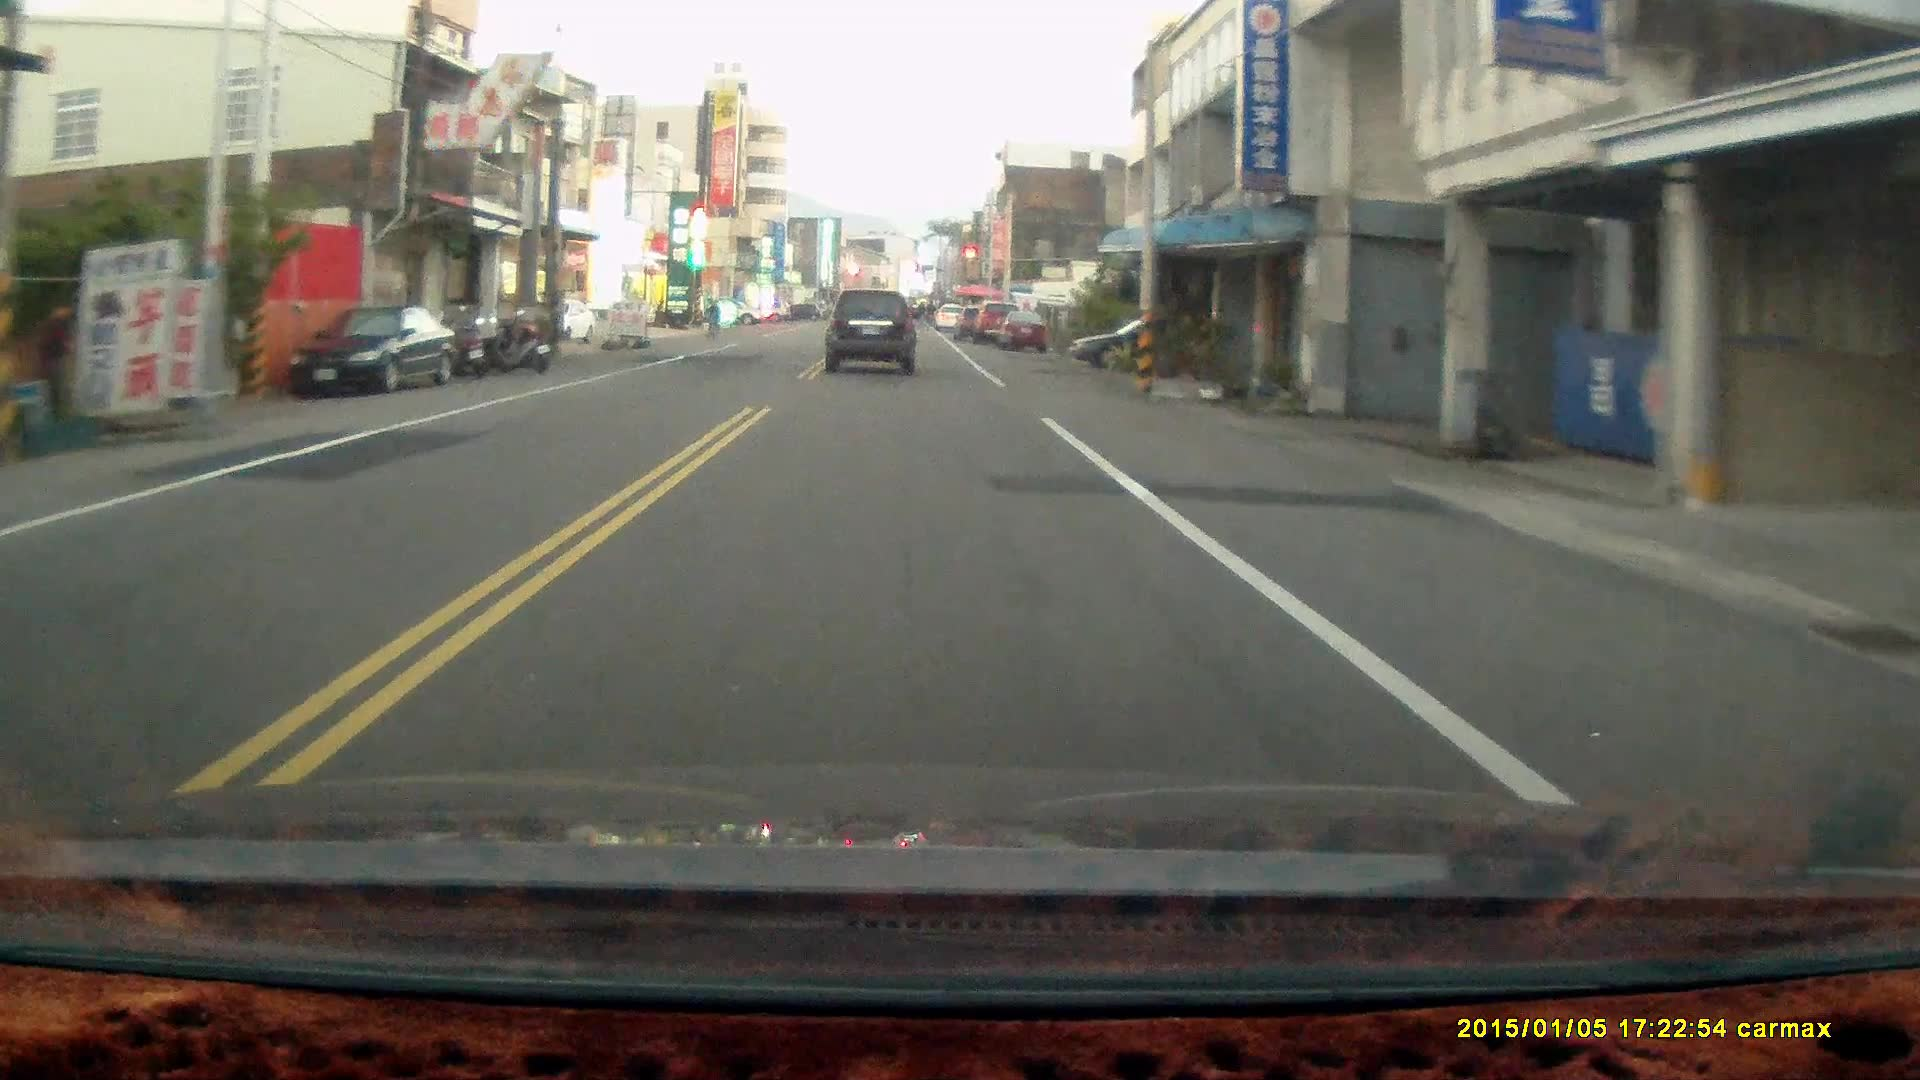pedestrian: (33, 299, 74, 425)
rider: (700, 294, 723, 339)
vehicle: (284, 306, 459, 395), (825, 287, 918, 378)
